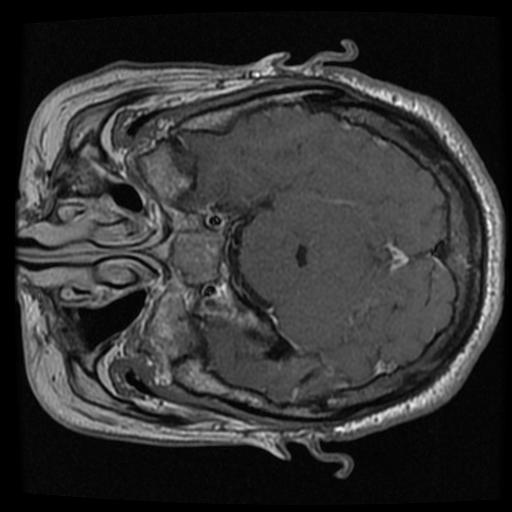pituitary tumour: (170, 230, 225, 287)
